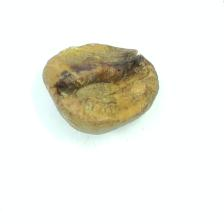NG: (49, 48, 154, 108)
